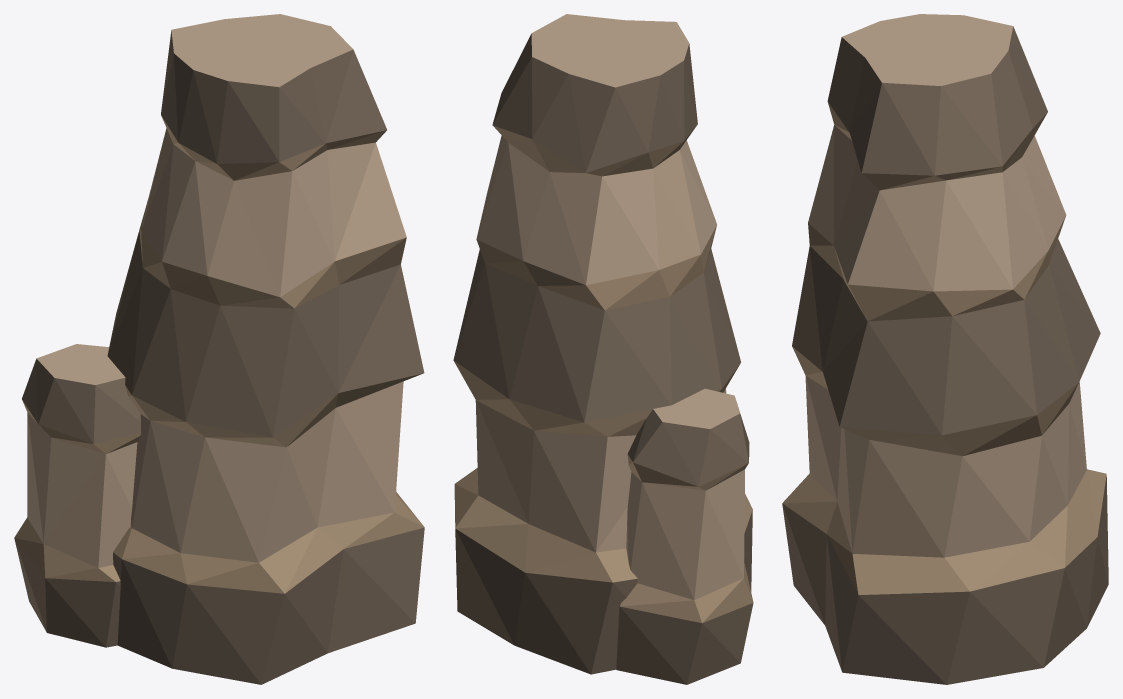
File: Canyon_StrataStack.fbx
3 renders of one model, left to right at view 1: azimuth 30°, elevation 25°; view 2: azimuth 150°, elevation 25°; view 3: azimuth 270°, elevation 25°, orthographic. The views are drawn at different scales.
Visible parts, largest first — view 1: Canyon_StrataStack; view 2: Canyon_StrataStack; view 3: Canyon_StrataStack.
Part boxes in pixels (x1=…): Canyon_StrataStack: x1=14, y1=14, x2=424, y2=684; Canyon_StrataStack: x1=453, y1=14, x2=753, y2=684; Canyon_StrataStack: x1=782, y1=14, x2=1108, y2=684.
Size of the model in its own units: 3 by 5 by 2.6.
